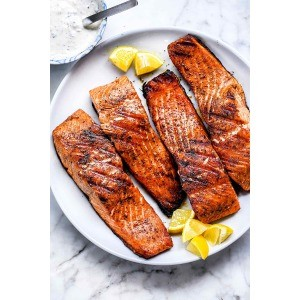salmon_brain food: (101, 44, 221, 255)
